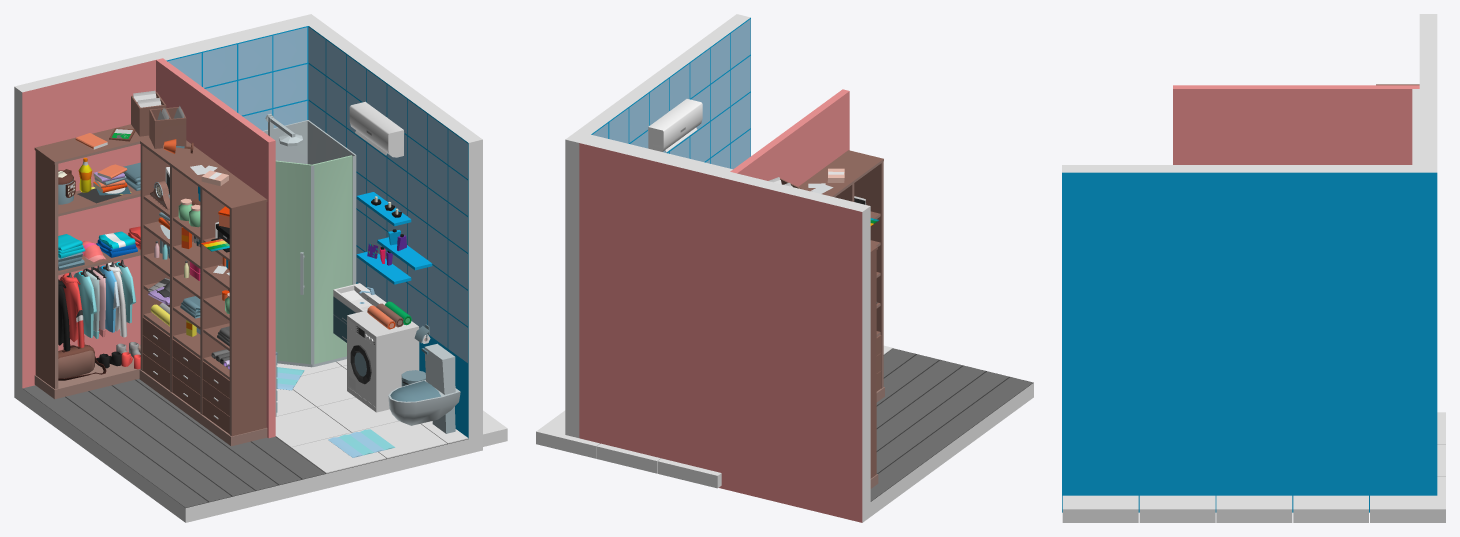
Rendered from room_13.glb.
The picture shows the model from 3 angles, left to right: view 1: azimuth 30°, elevation 25°; view 2: azimuth 150°, elevation 25°; view 3: azimuth 270°, elevation 25°; orthographic projection. The views are drawn at different scales.
Visible parts, largest first — view 1: closet_031.001, Walls_133.004, bathroom_item_012.001, wall_014.001, Walls_075.004, closet_033.001, Walls_140.001, Walls_011.005, bathroom_item_011.001, bathroom_item_033.001, Walls_005.248, electronics_027.003 (+59 smaller); view 2: Walls_133.004, wall_014.001, Walls_075.004, Walls_140.001, closet_031.001, Walls_011.005, electronics_027.003, closet_033.001, Walls_005.275, Walls_005.259, Walls_005.271, carpet_020.002 (+10 smaller); view 3: Walls_075.004, Walls_140.001, Walls_133.004, Walls_005.275, Walls_005.244, Walls_005.250, Walls_005.254, Walls_005.258, Walls_075.005.
Part boxes in pixels (x1,y1,x2,y2): closet_031.001: (139, 138, 267, 446); Walls_133.004: (14, 17, 304, 402); bathroom_item_012.001: (263, 114, 356, 367); wall_014.001: (23, 379, 325, 507); Walls_075.004: (297, 14, 482, 453); closet_033.001: (34, 124, 149, 399); Walls_140.001: (156, 58, 275, 438); Walls_011.005: (22, 379, 468, 522); bathroom_item_011.001: (347, 310, 419, 412); bathroom_item_033.001: (388, 343, 460, 433); Walls_005.248: (275, 407, 350, 447); electronics_027.003: (349, 101, 404, 157); Walls_133.004: (579, 137, 870, 522); wall_014.001: (870, 348, 1032, 501); Walls_075.004: (565, 14, 750, 437); Walls_140.001: (730, 89, 849, 186); closet_031.001: (798, 150, 884, 402); Walls_011.005: (870, 348, 1033, 516); electronics_027.003: (648, 99, 702, 152); closet_033.001: (870, 245, 878, 488); Walls_005.275: (536, 410, 599, 458); Walls_005.259: (657, 458, 721, 488); Walls_005.271: (596, 443, 660, 473); carpet_020.002: (710, 34, 730, 83); Walls_075.004: (1062, 165, 1437, 512); Walls_140.001: (1173, 85, 1419, 164); Walls_133.004: (1419, 14, 1437, 164); Walls_005.275: (1370, 477, 1445, 522); Walls_005.244: (1062, 495, 1138, 522); Walls_005.250: (1139, 495, 1215, 522); Walls_005.254: (1216, 495, 1292, 522); Walls_005.258: (1293, 495, 1368, 522); Walls_075.005: (1412, 89, 1419, 164).
Bounding box in the file's own units: 4.56 × 4.2 × 4.3.
Materials: 1 (1 with a texture image).
